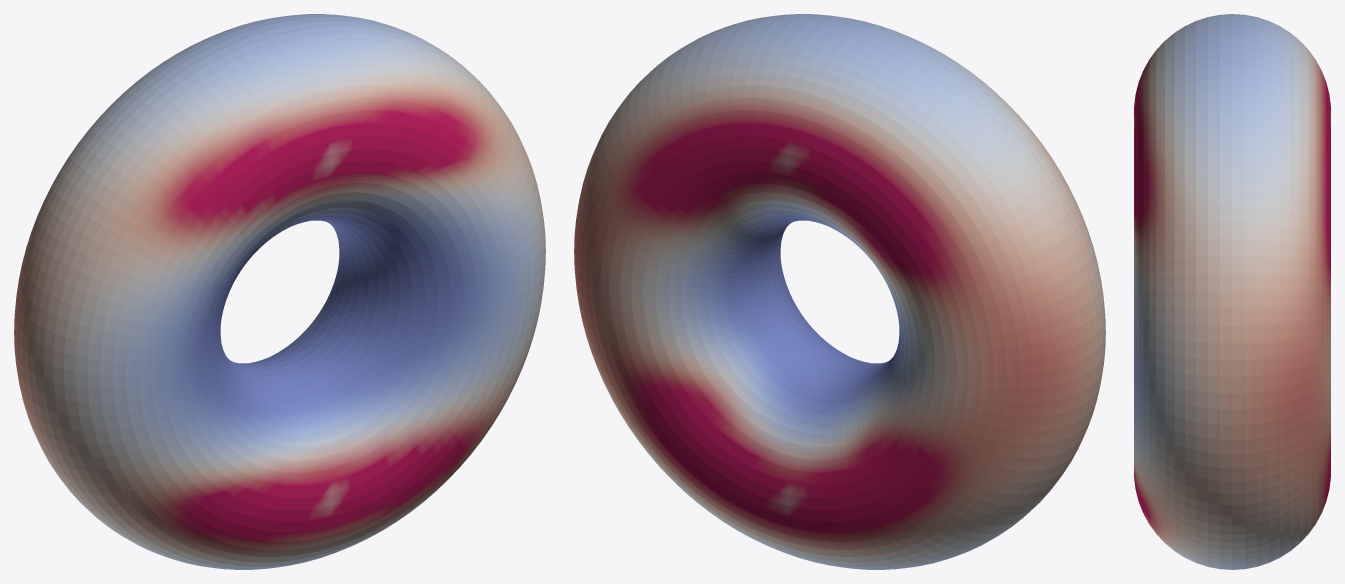
The picture shows the model from 3 angles, left to right: view 1: azimuth 30°, elevation 25°; view 2: azimuth 150°, elevation 25°; view 3: azimuth 270°, elevation 25°; orthographic projection. The views are drawn at different scales.
Visible parts, largest first — view 1: world; view 2: world; view 3: world.
Part boxes in pixels (x1,y1,x2,y2): world: (14, 14, 545, 569); world: (574, 14, 1105, 569); world: (1134, 14, 1330, 569).
Size of the model in its own units: 20.67 by 20.67 by 7.32.
